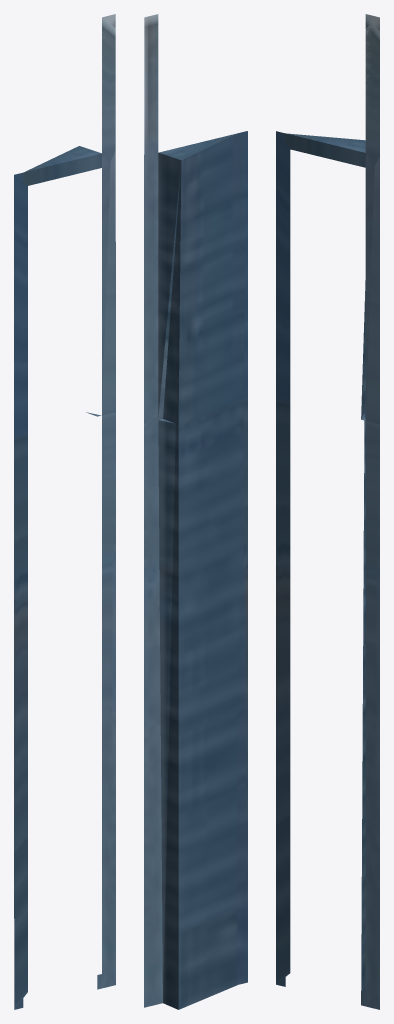
Rendered from chunk_-7_1.glb.
3 views of the same model, side by side, from view 1: azimuth 30°, elevation 25°; view 2: azimuth 210°, elevation 25°; view 3: azimuth 330°, elevation 25° (orthographic). The views are drawn at different scales.
Visible parts, largest first — view 1: hero-chunk; view 2: hero-chunk; view 3: hero-chunk.
Part boxes in pixels (x1=…): hero-chunk: x1=14, y1=14, x2=115, y2=1009; hero-chunk: x1=144, y1=14, x2=247, y2=1009; hero-chunk: x1=276, y1=14, x2=379, y2=1009.
Bounding box in the file's own units: 6.78 × 61.82 × 1.54.
Materials: 1 (1 with a texture image).
